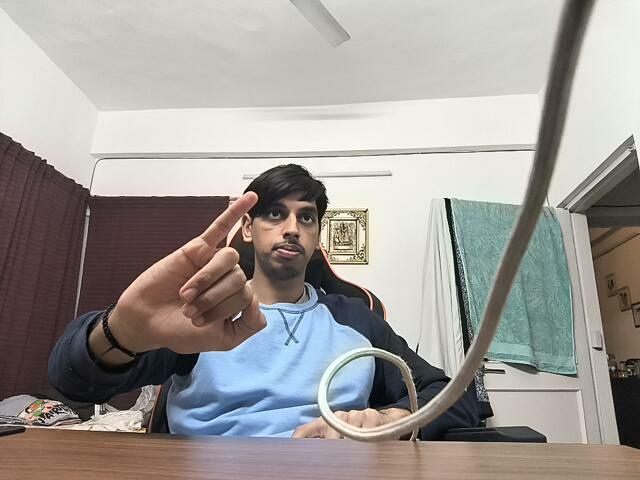RIGHT: (121, 190, 280, 353)
